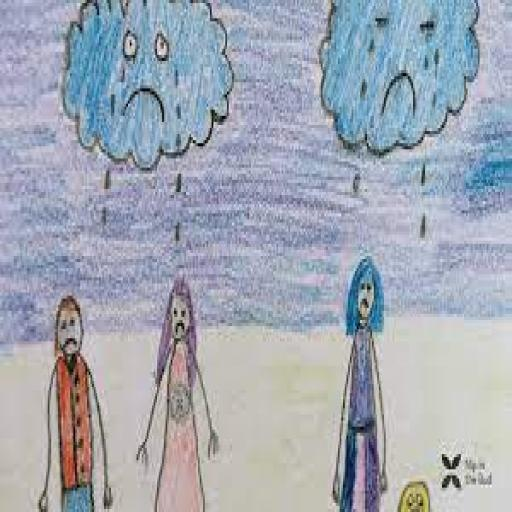person: (134, 269, 220, 509), (323, 249, 393, 509), (32, 294, 115, 509)
